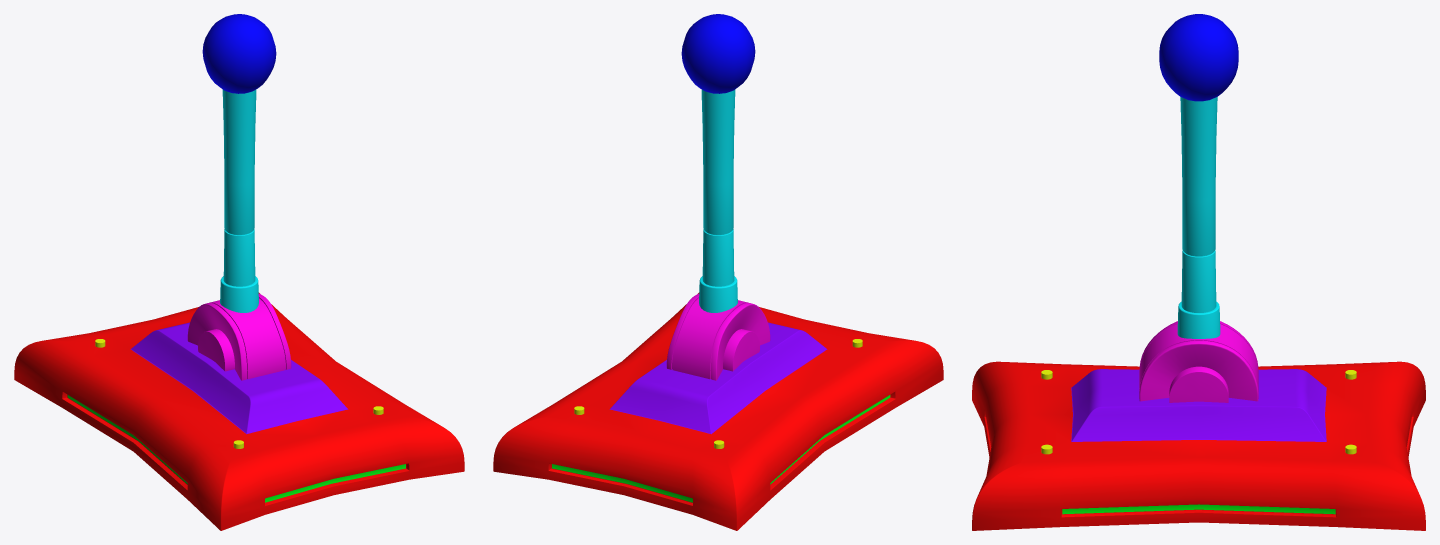
The model's file is lever_low.fbx.
The picture shows the model from 3 angles, left to right: view 1: azimuth 30°, elevation 25°; view 2: azimuth 150°, elevation 25°; view 3: azimuth 270°, elevation 25°; orthographic projection. The views are drawn at different scales.
Visible parts, largest first — view 1: plate_low; view 2: plate_low; view 3: plate_low.
Boxes of the visible parts, left/top/right/bottom form: plate_low: left=14, top=14, right=464, bottom=530; plate_low: left=493, top=14, right=943, bottom=530; plate_low: left=972, top=14, right=1425, bottom=530.
Size of the model in its own units: 29.59 by 47.33 by 43.44.
